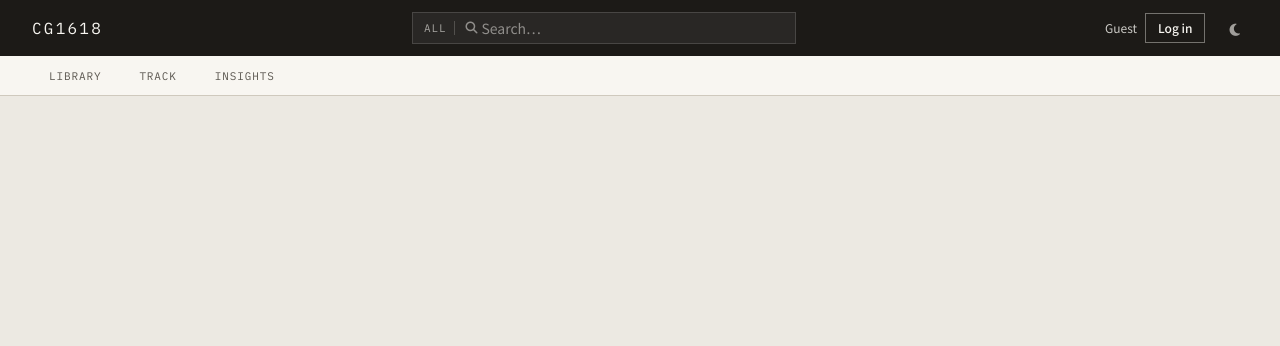
Nav - what a guest is shown › shows a member the Entities column and the extras
What coordinates should you click on to do the following:
click the button "Library"
I would click on:
 (75, 76)
Its box is [32,56,118,96].
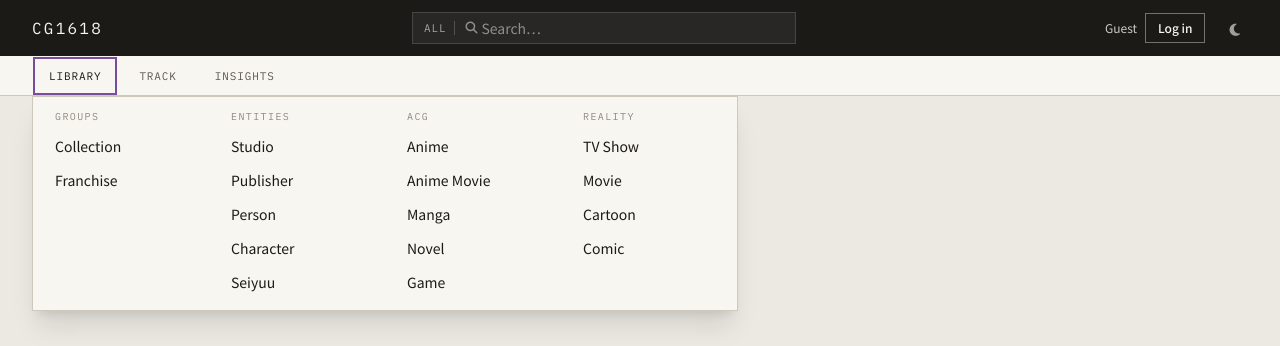
Expected: the text "Entities" is shown, [231,110,290,123]
Expected: the link "Studio" is shown, [231,136,274,156]
What coordinates should you click on to do the following:
click the button "Track"
I would click on:
 (158, 76)
Its box is [122,56,194,96].
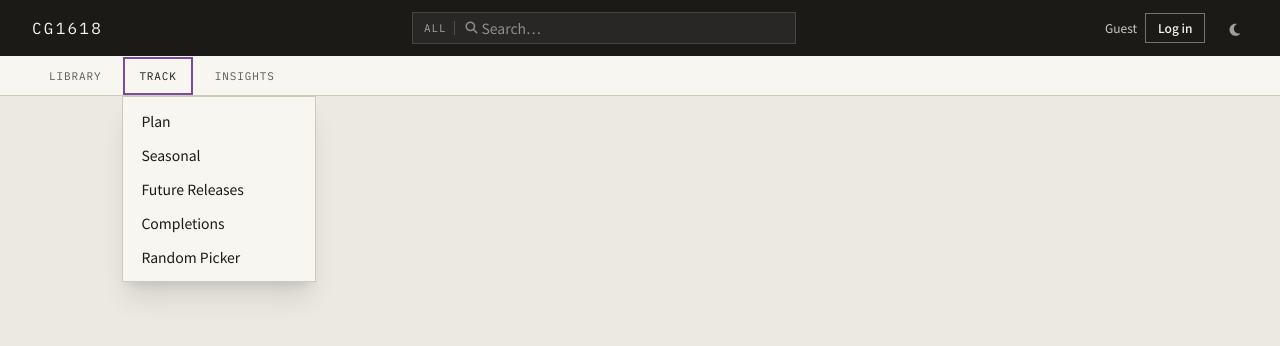
Expected: the link "Random Picker" is shown, [141,247,240,267]
